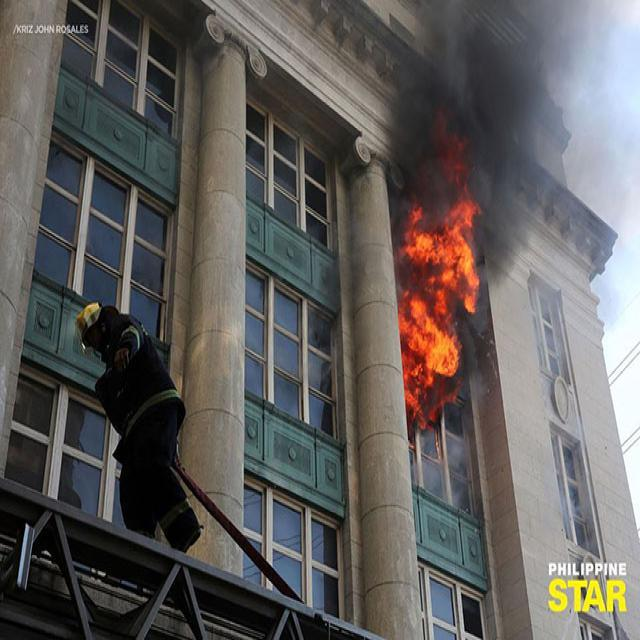Fire: (387, 178, 488, 448)
Smoke: (383, 0, 600, 181)
